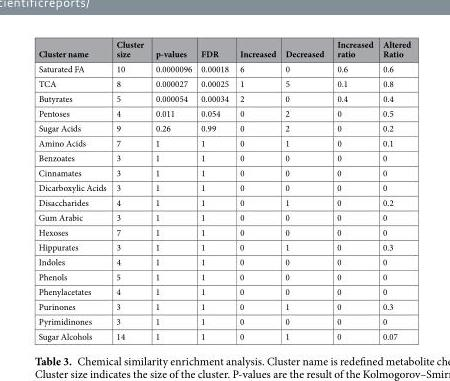table: (37, 37, 410, 341)
table column: (37, 37, 110, 341), (279, 37, 329, 341), (329, 37, 377, 341), (148, 37, 195, 341), (233, 37, 279, 341), (110, 37, 148, 341), (195, 37, 233, 341), (377, 37, 410, 341)
table column header: (37, 37, 410, 60)
table row: (37, 37, 410, 60), (37, 60, 410, 75), (37, 75, 410, 90), (37, 90, 410, 105), (37, 105, 410, 120), (37, 120, 410, 135), (37, 135, 410, 150), (37, 164, 410, 179), (37, 179, 410, 194), (37, 194, 410, 209), (37, 209, 410, 224), (37, 224, 410, 239), (37, 239, 410, 254), (37, 268, 410, 283), (37, 283, 410, 298), (37, 298, 410, 313), (37, 313, 410, 328), (37, 150, 410, 164), (37, 254, 410, 268), (37, 328, 410, 341)
